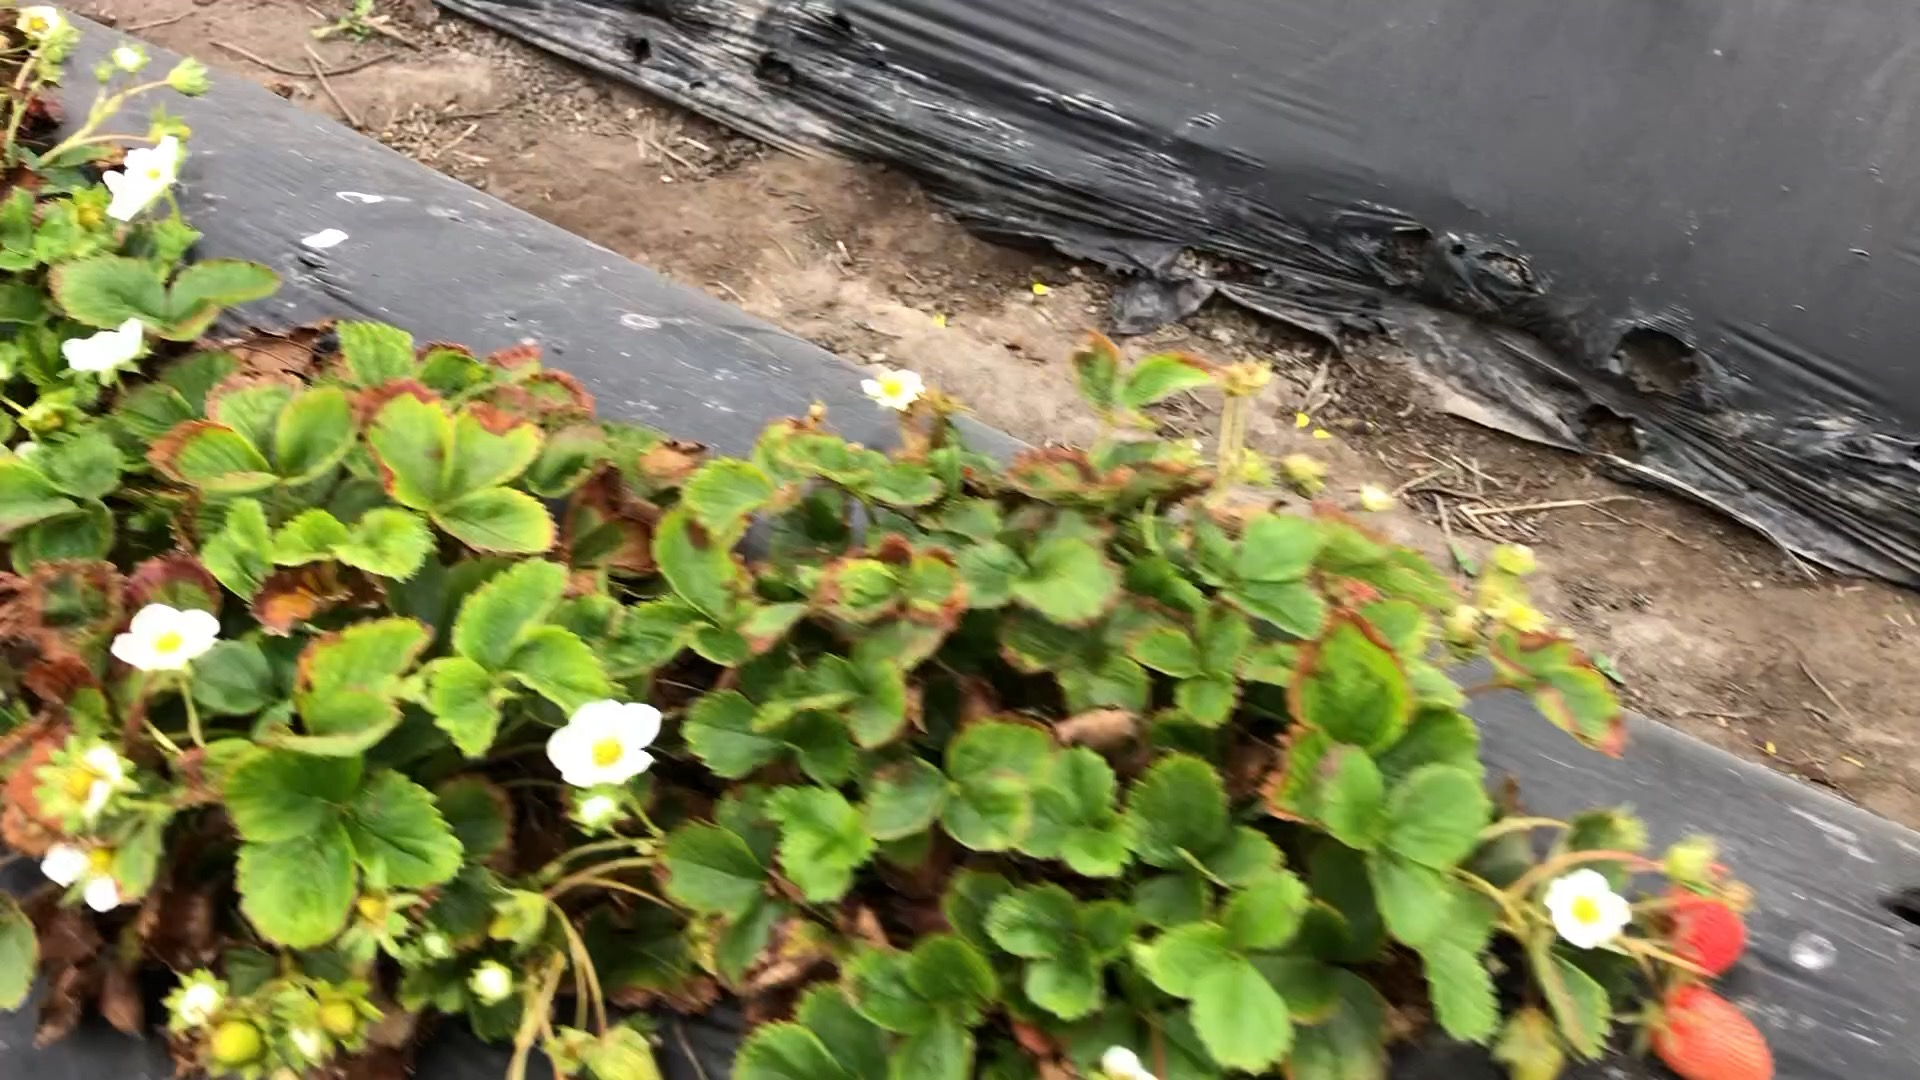ripe_strawberry: (1619, 967, 1778, 1080), (1648, 886, 1753, 984)
unripe_strawberry: (206, 1014, 272, 1069), (313, 993, 364, 1044)
